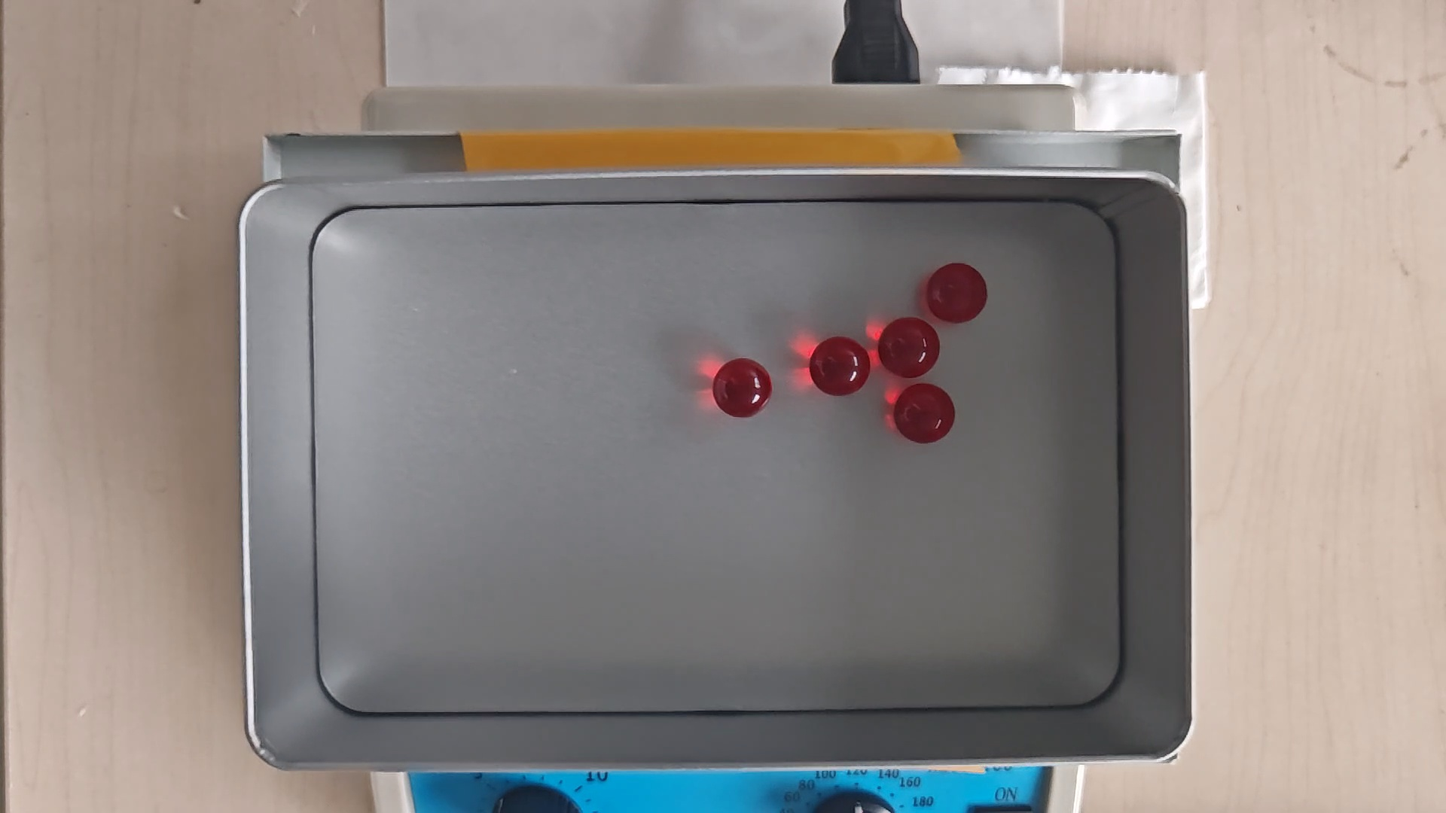ball: (895, 381, 957, 447), (712, 357, 773, 418), (879, 318, 940, 379), (927, 262, 987, 324), (810, 336, 870, 397)
container: (313, 201, 1120, 713)
